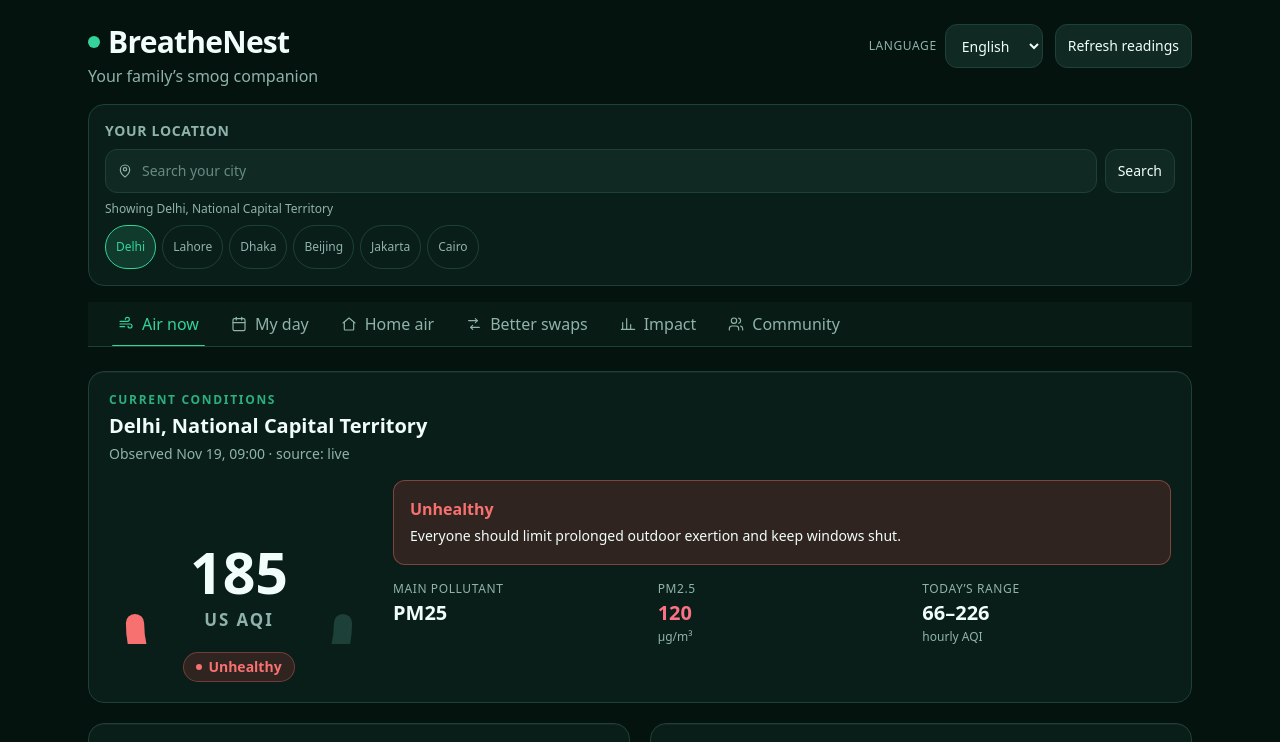
it: tab keyboard navigation › switches panels when a tab is clicked
Click the tab "Home air": (388, 324) [327,302,448,346]
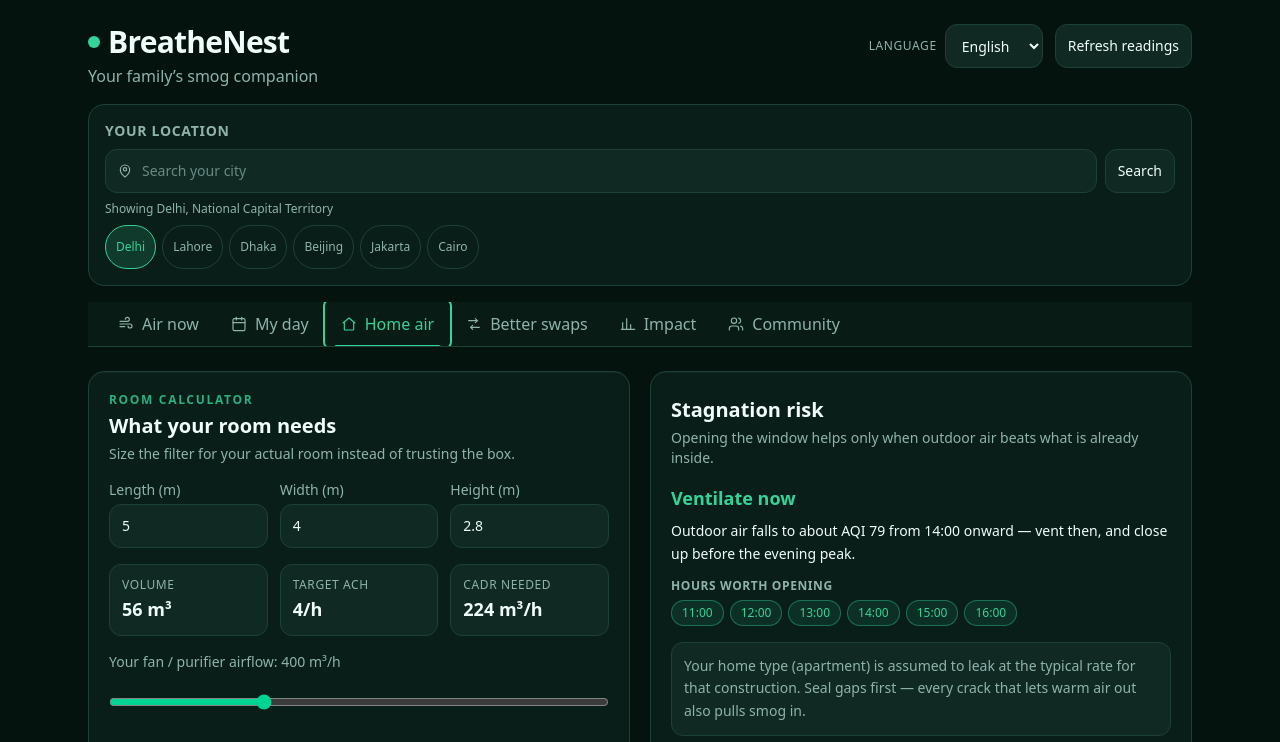
Expected: the heading "What your room needs" is shown, [109,412,336,439]
